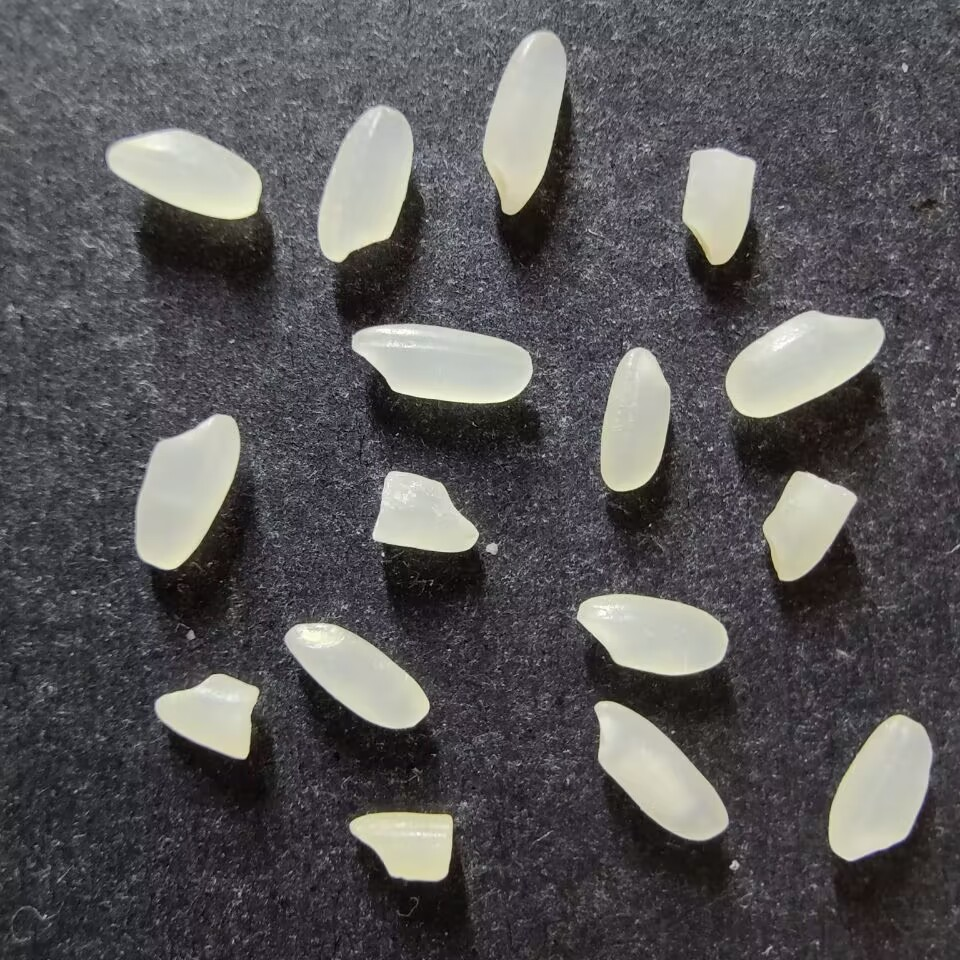broken: (761, 470, 857, 582), (154, 672, 260, 759), (371, 470, 480, 552), (681, 148, 756, 265), (348, 810, 453, 881)
rice: (592, 699, 728, 841), (724, 309, 886, 418), (134, 412, 240, 570), (480, 29, 568, 215), (283, 622, 429, 729), (827, 714, 931, 861), (316, 105, 412, 262), (350, 322, 533, 403), (106, 129, 261, 219), (576, 593, 728, 675), (598, 347, 671, 492)
